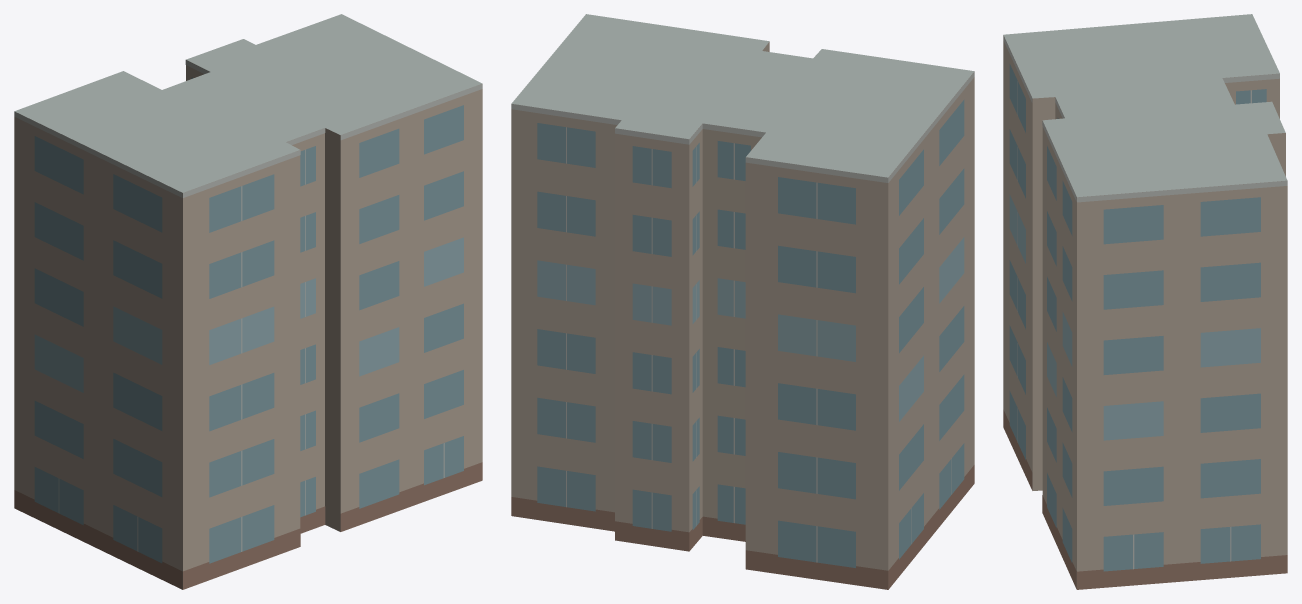
The model's file is survey-upis-32871099.glb.
3 renders of one model, left to right at view 1: azimuth 30°, elevation 25°; view 2: azimuth 150°, elevation 25°; view 3: azimuth 270°, elevation 25°, orthographic. The views are drawn at different scales.
Parts seen in each view (by area): view 1: survey-upis-32871099.tmp; view 2: survey-upis-32871099.tmp; view 3: survey-upis-32871099.tmp.
Part boxes in pixels (box(x1,y1,x2,y2)): survey-upis-32871099.tmp: box(14, 14, 482, 589); survey-upis-32871099.tmp: box(511, 14, 974, 589); survey-upis-32871099.tmp: box(1003, 14, 1287, 589).
Size of the model in its own units: 18.33 by 18.3 by 12.02.
